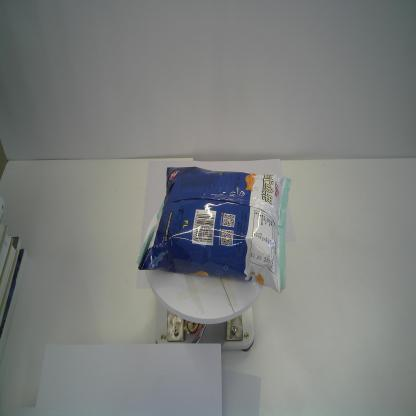Puffed Food: (135, 165, 292, 294)
